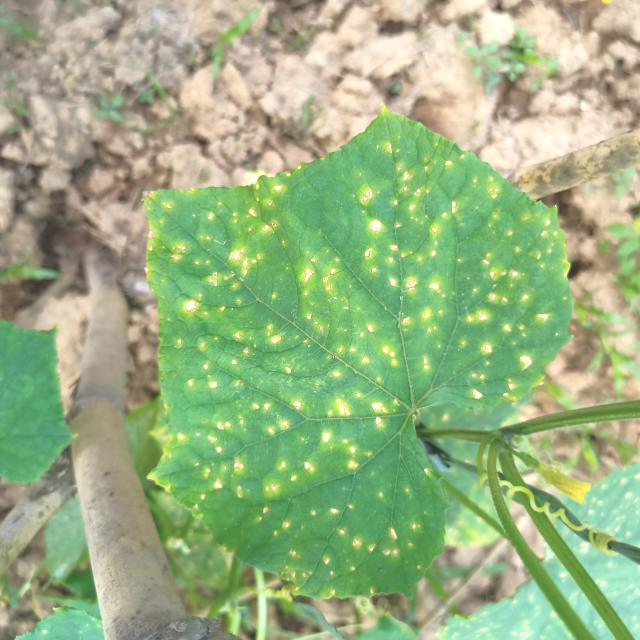disease_cucumber: (168, 132, 562, 580)
